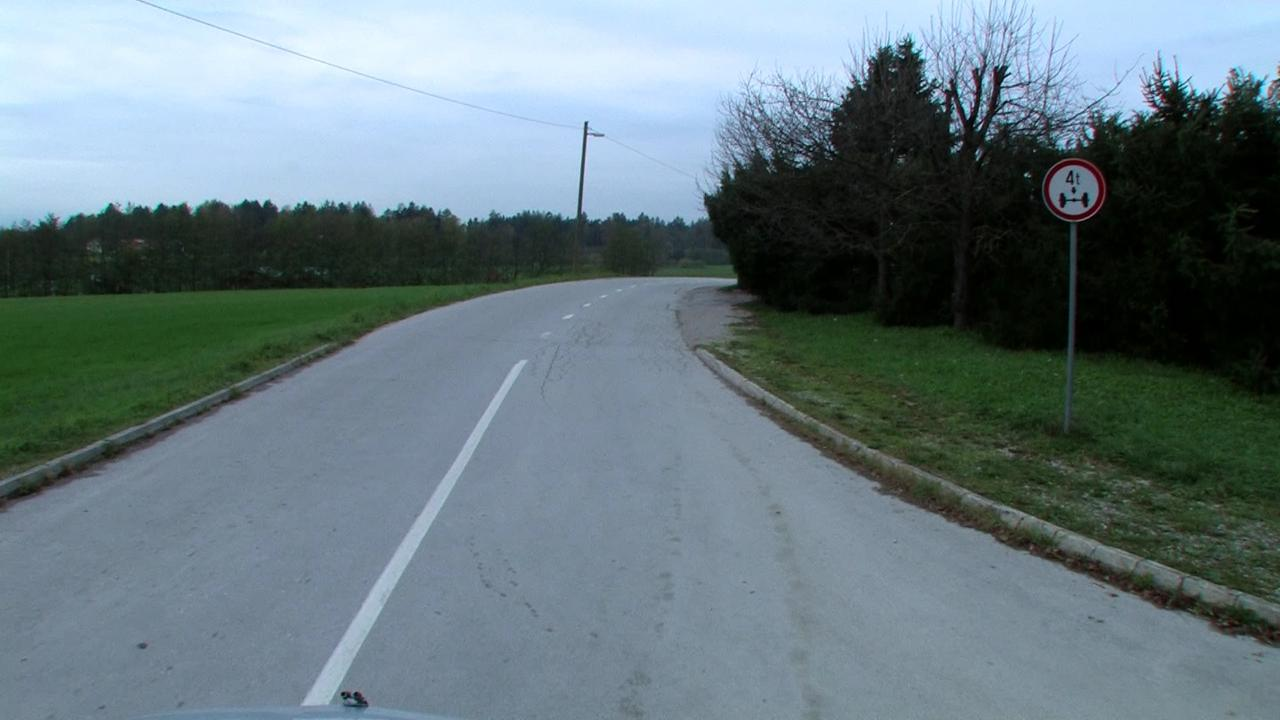Round: (1042, 157, 1106, 221)
